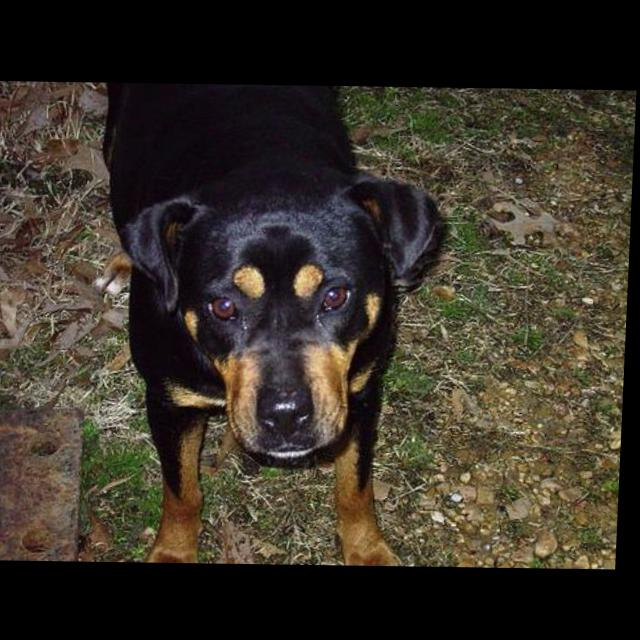rottweiler: (87, 83, 455, 566)
